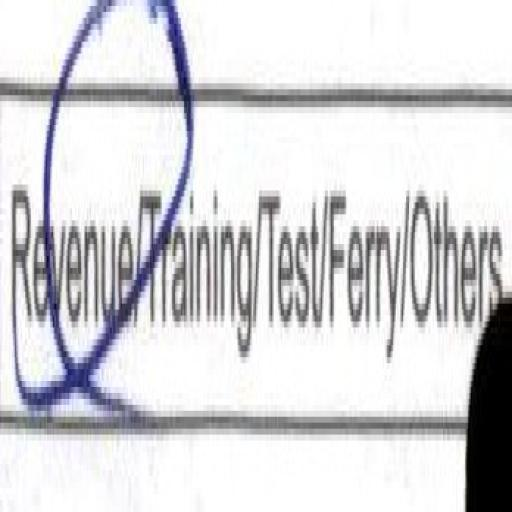check: (0, 0, 140, 433)
